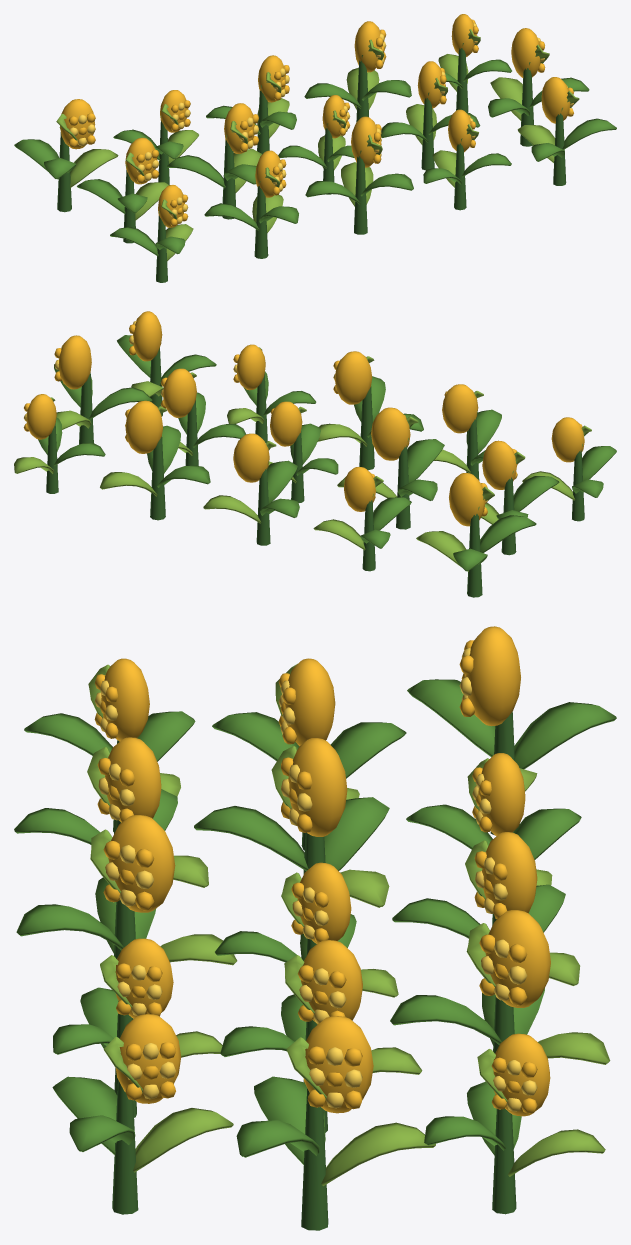
File: Corn_Planted_Patch.fbx
The picture shows the model from 3 angles, top to bottom: view 1: azimuth 30°, elevation 25°; view 2: azimuth 150°, elevation 25°; view 3: azimuth 270°, elevation 25°; orthographic projection. The views are drawn at different scales.
Visible parts, largest first — view 1: Body; view 2: Body; view 3: Body.
Part boxes in pixels (x1,y1,x2,y2): Body: [14, 14, 616, 282]; Body: [14, 311, 616, 597]; Body: [14, 626, 616, 1230].
Size of the model in its own units: 1.64 by 0.3462 by 0.8908.
